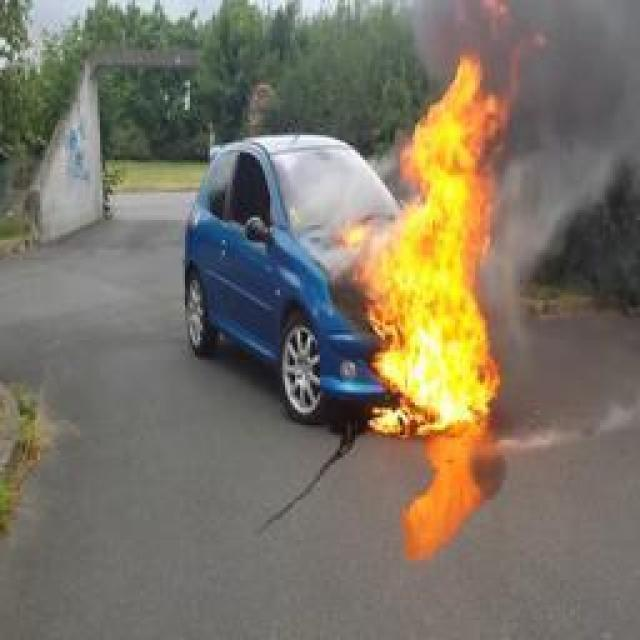Fire: (345, 51, 510, 434)
